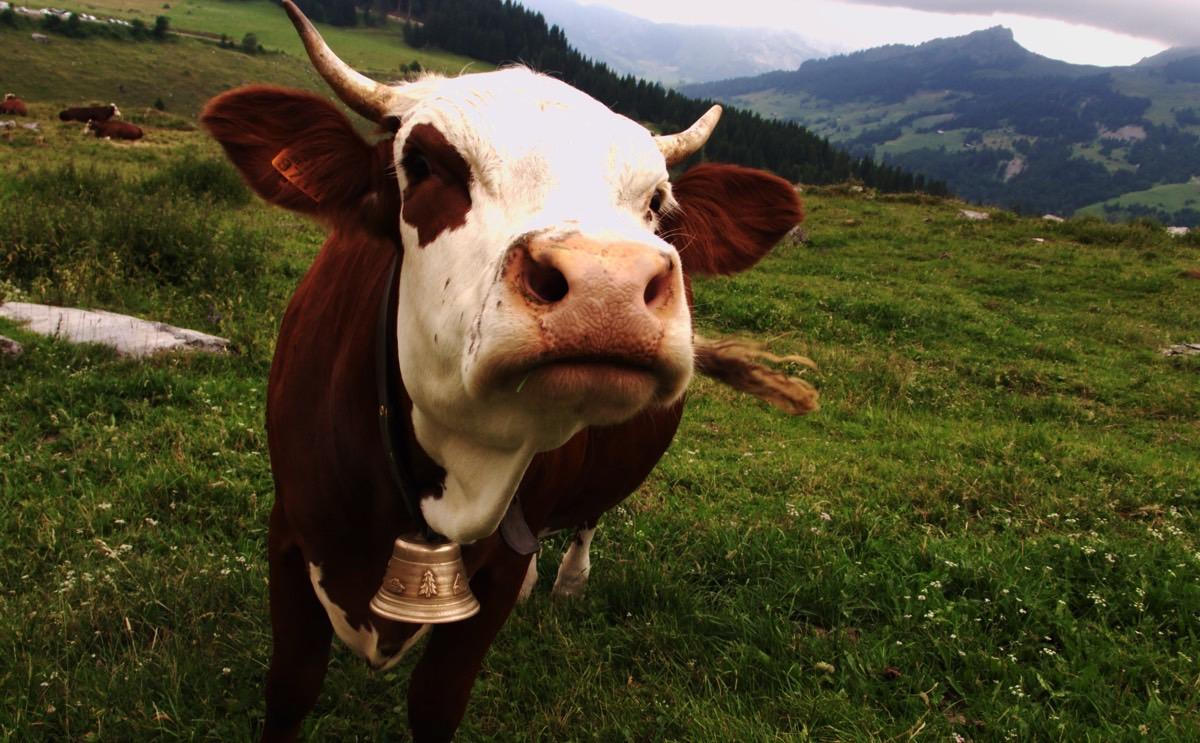muzzles: (456, 214, 694, 443)
